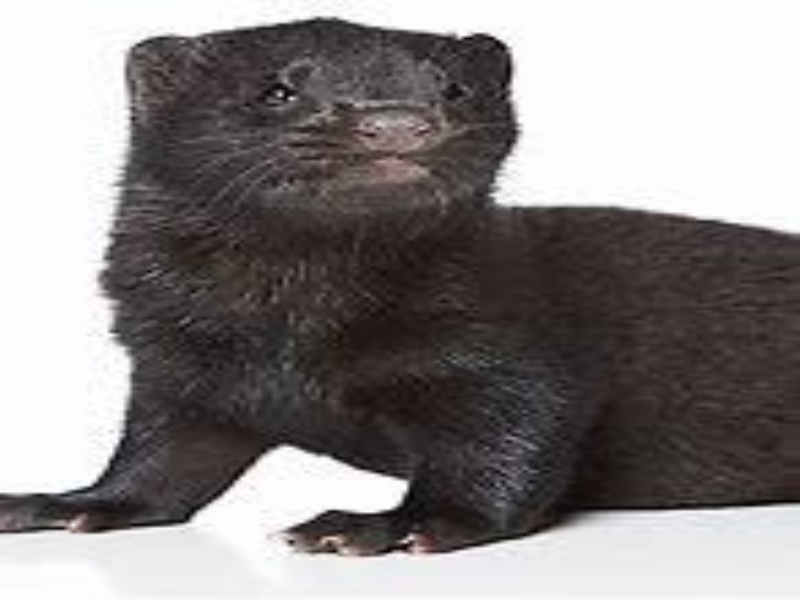minkish: (5, 13, 797, 553)
